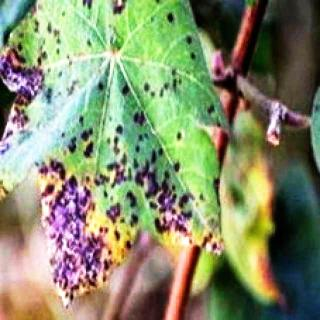leaf spot: (5, 30, 226, 305)
